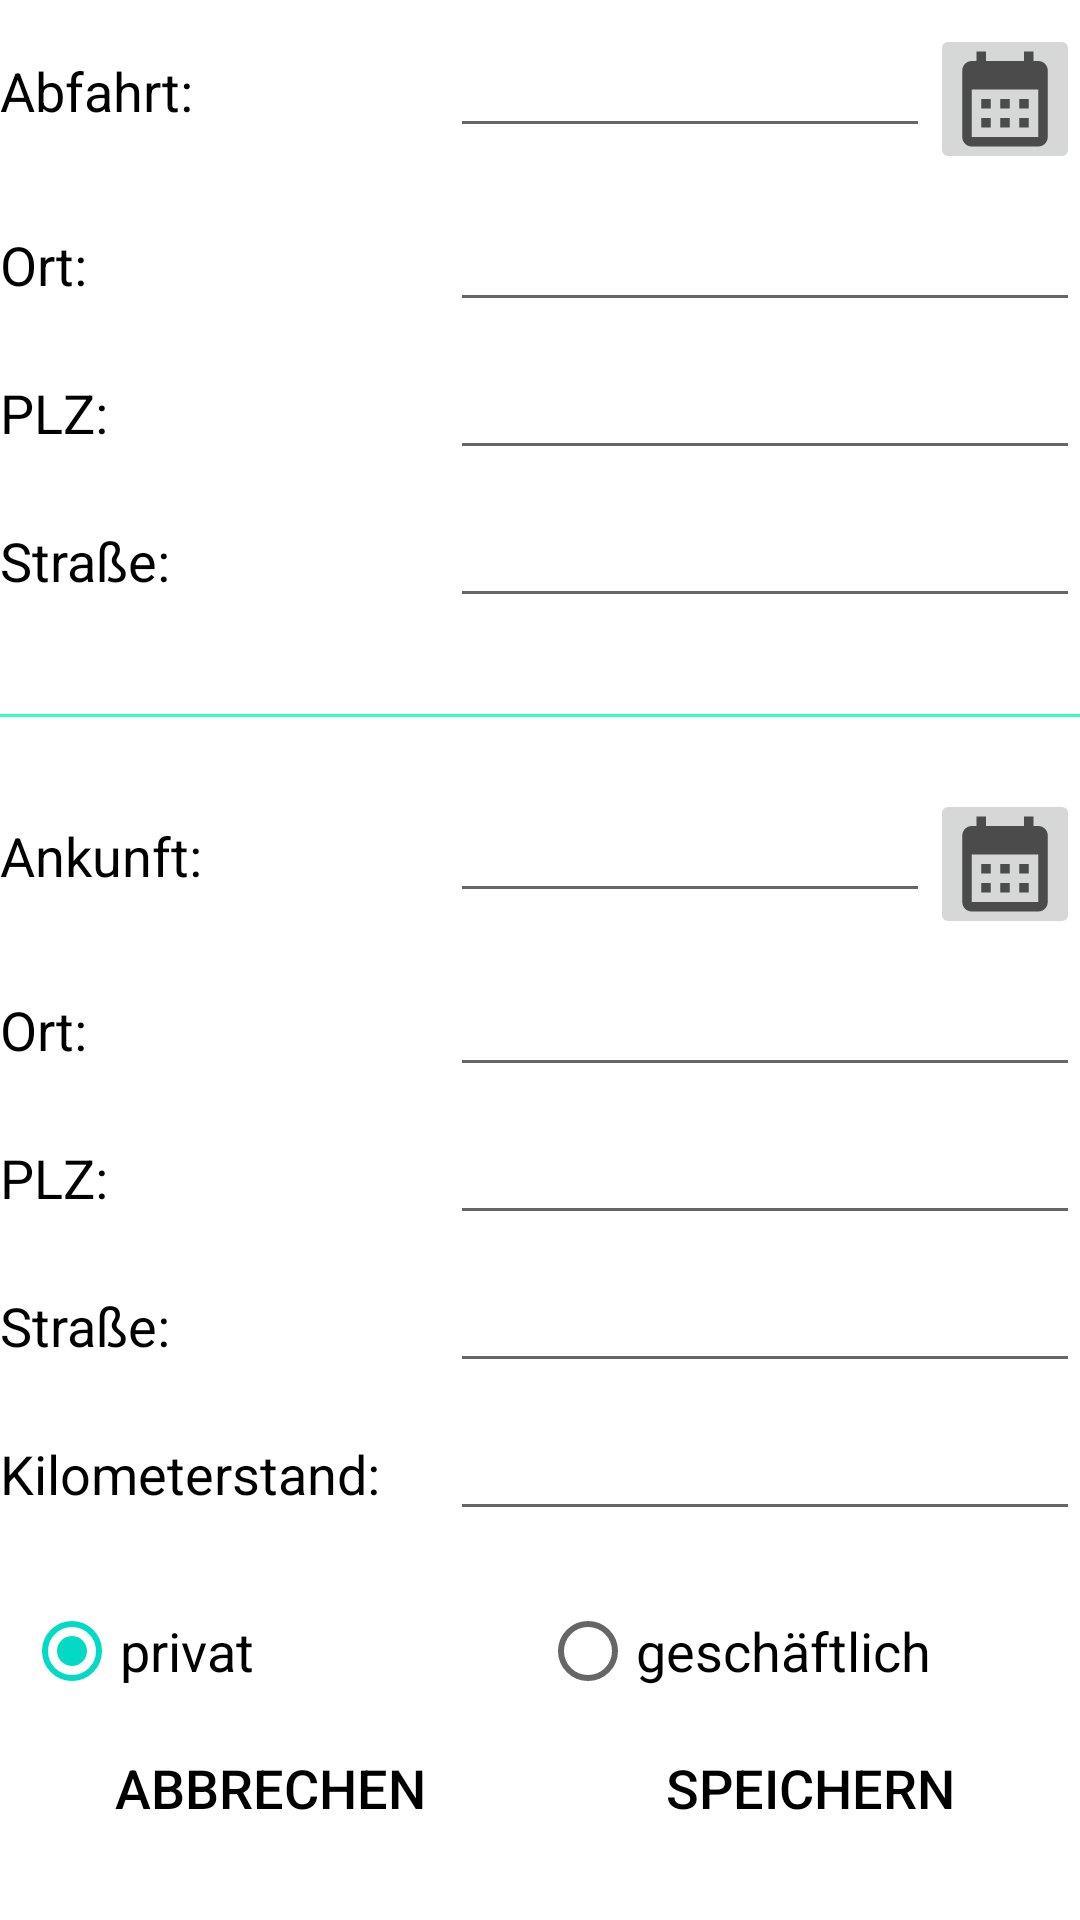

Icon click points for this 1080w x 1920h phone screenshot, format point (x, y):
calendar: point (1005, 99), point (1005, 864)
